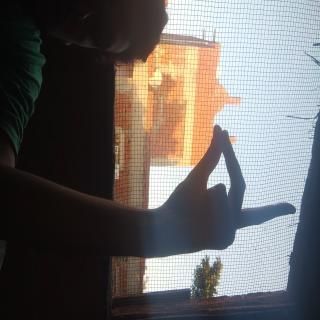TAA: (94, 29, 200, 253)
